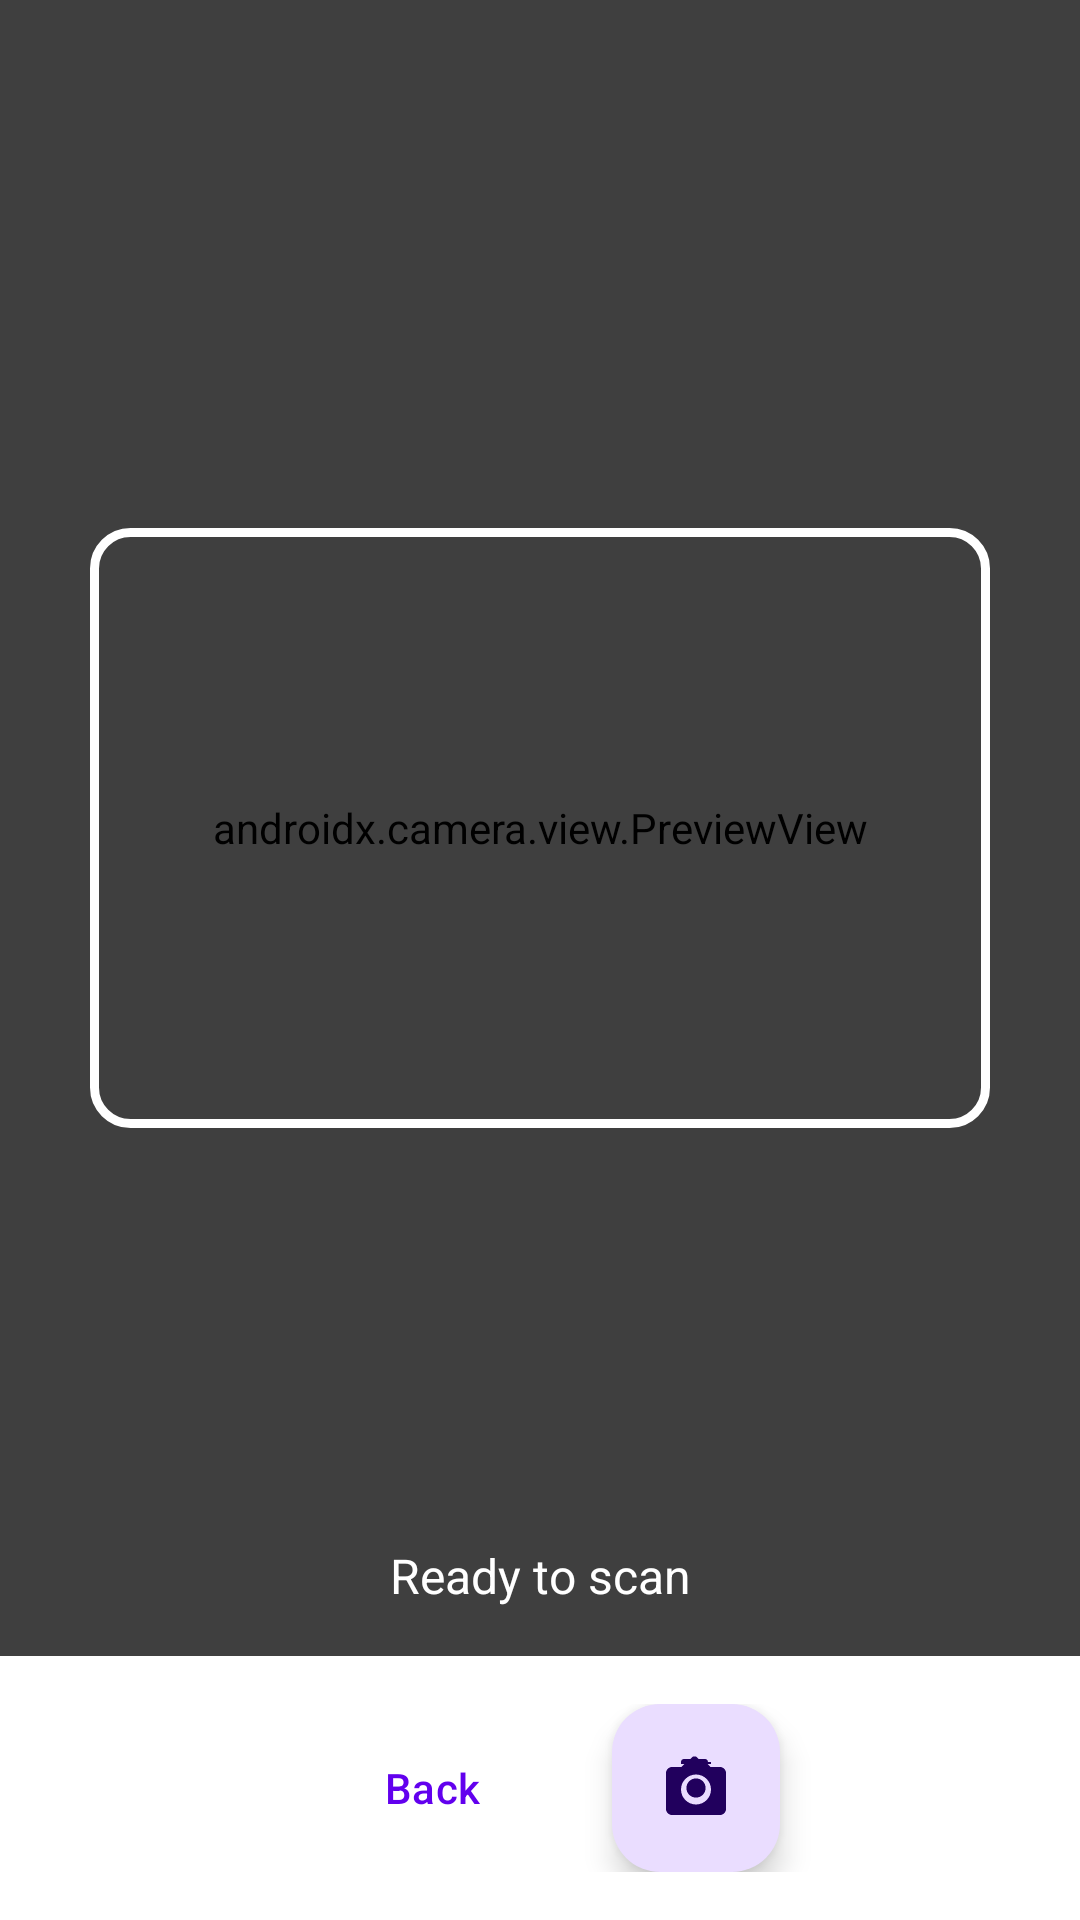

Point at icon controls on the screen. Image size 1080 × 1920, points as (x=x, y=y).
Capture: (x=696, y=1788)
